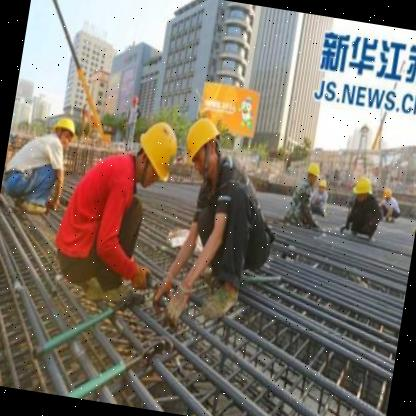capacete: (130, 115, 184, 188), (180, 113, 228, 171), (50, 112, 80, 140), (350, 175, 374, 201), (302, 159, 323, 181)
